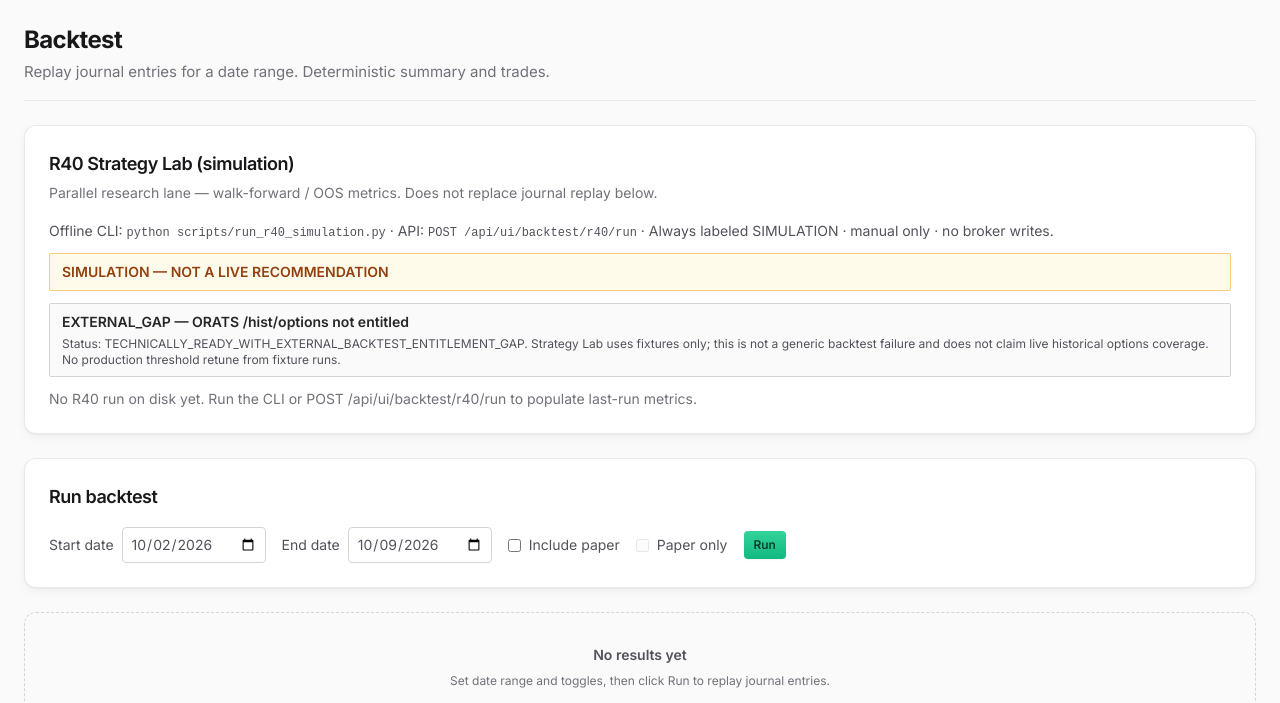
BacktestPage simulation label › shows 'SIMULATION — NOT A LIVE RECOMMENDATION' once results render
The image size is (1280, 703).
Click the button with test id "backtest-run-btn": (765, 545) [744,531,786,559]
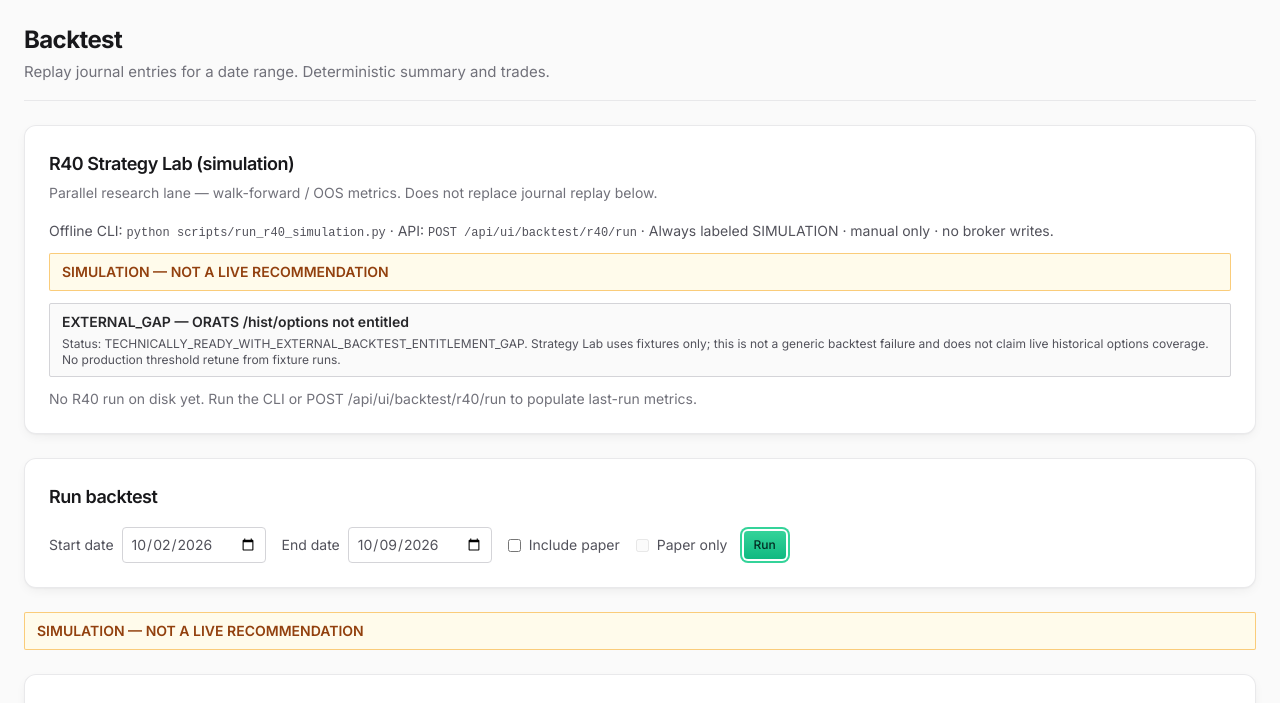
Expected: the text with test id "backtest-simulation-label" is shown, [24,612,1256,650]
Expected: the text with test id "backtest-simulation-label" reads "SIMULATION — NOT A LIVE RECOMMENDATION", [37,622,364,639]
